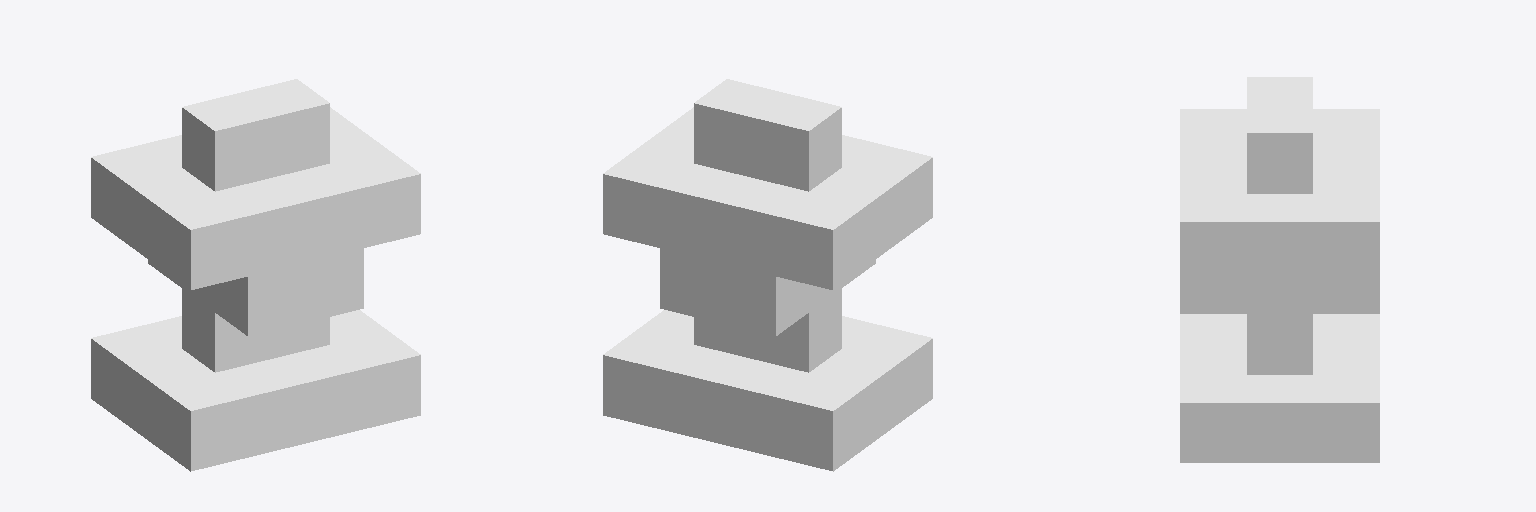
The model's file is Skeleton-torso.obj.
3 views of the same model, side by side, from view 1: azimuth 30°, elevation 25°; view 2: azimuth 150°, elevation 25°; view 3: azimuth 270°, elevation 25° (orthographic).
Visible parts, largest first — view 1: object 1; view 2: object 1; view 3: object 1.
Part boxes in pixels (left/top/right/bottom): object 1: left=91, top=79, right=420, bottom=471; object 1: left=603, top=79, right=932, bottom=471; object 1: left=1180, top=77, right=1379, bottom=462.
Size of the model in its own units: 0.4 by 0.5 by 0.3.